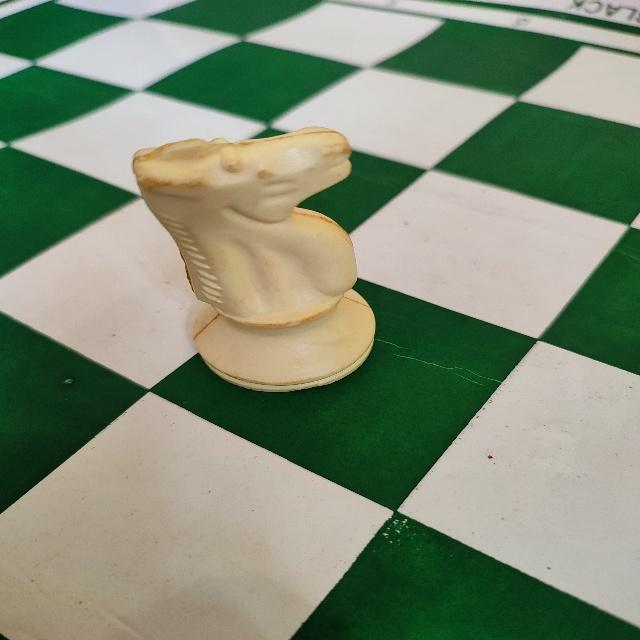Knight: (129, 123, 379, 395)
